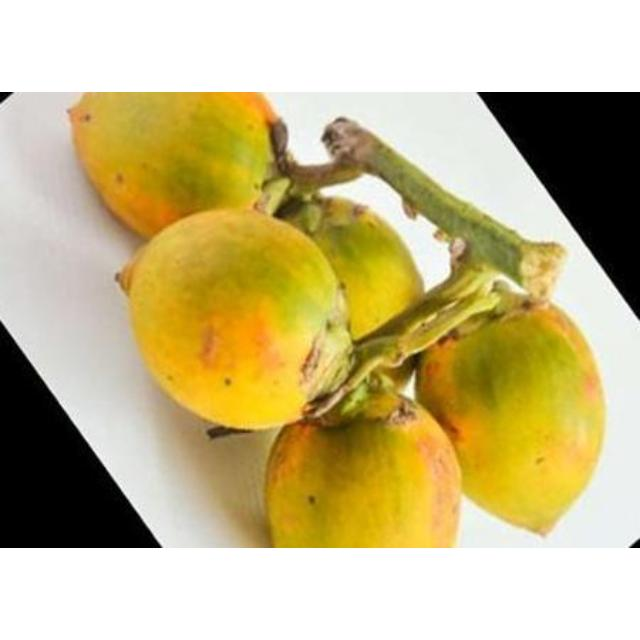good: (88, 95, 596, 547)
